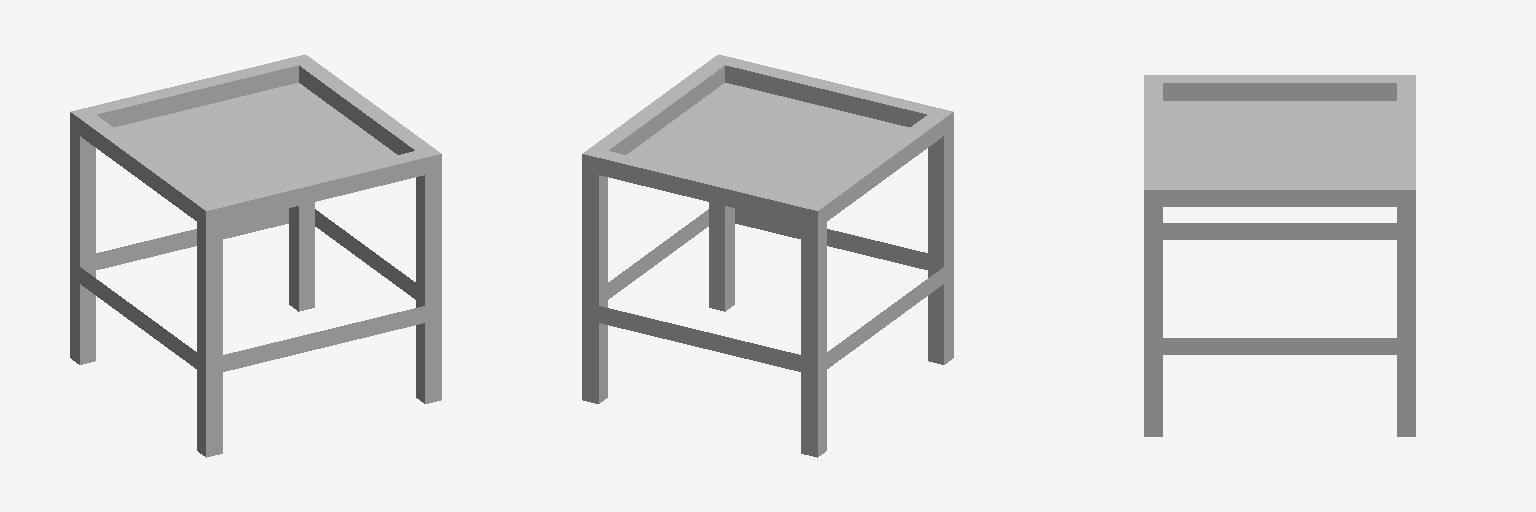
The model's file is scaffolding-structure.obj.
3 renders of one model, left to right at view 1: azimuth 30°, elevation 25°; view 2: azimuth 150°, elevation 25°; view 3: azimuth 270°, elevation 25°, orthographic.
Visible parts, largest first — view 1: scaffolding-structure; view 2: scaffolding-structure; view 3: scaffolding-structure.
Part boxes in pixels (x1,y1,x2,y2): scaffolding-structure: (70, 54, 441, 457); scaffolding-structure: (582, 54, 953, 457); scaffolding-structure: (1144, 75, 1415, 436).
Bounding box in the file's own units: 1 × 1 × 1.